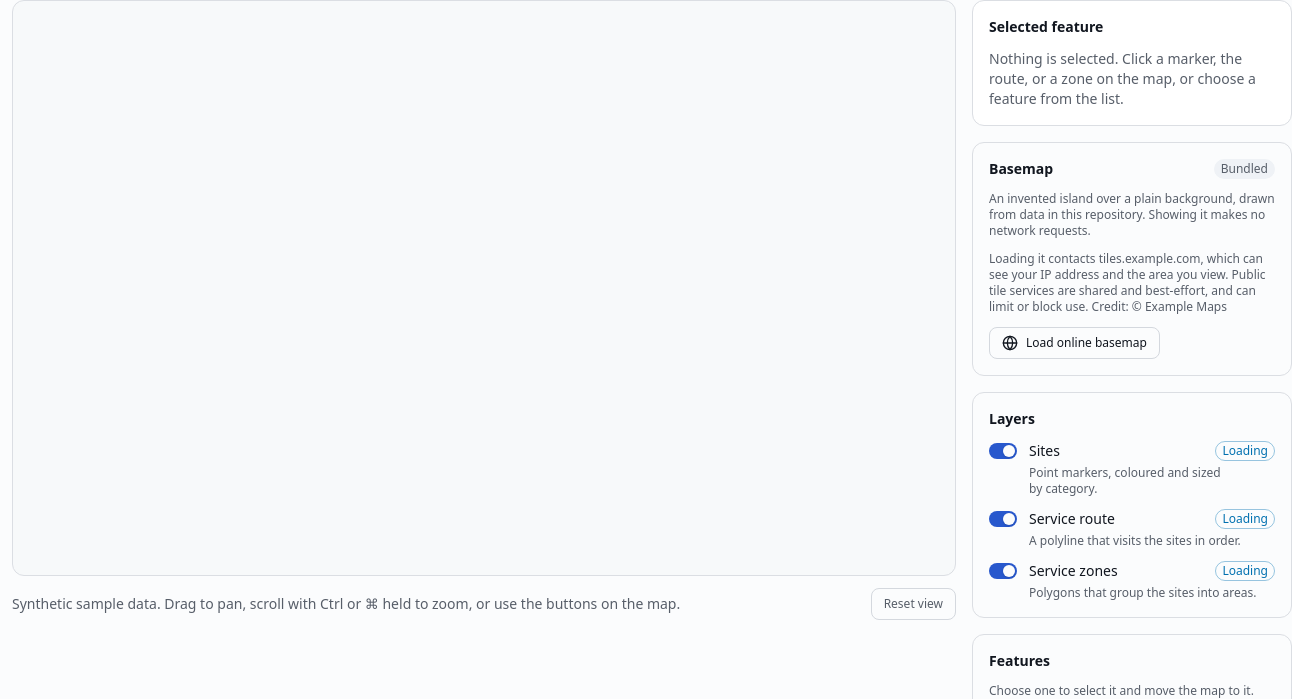
Test: the online basemap › loads the online basemap on request, then reports ready
Click the button "Load online basemap": (1074,343) [989,327,1160,359]
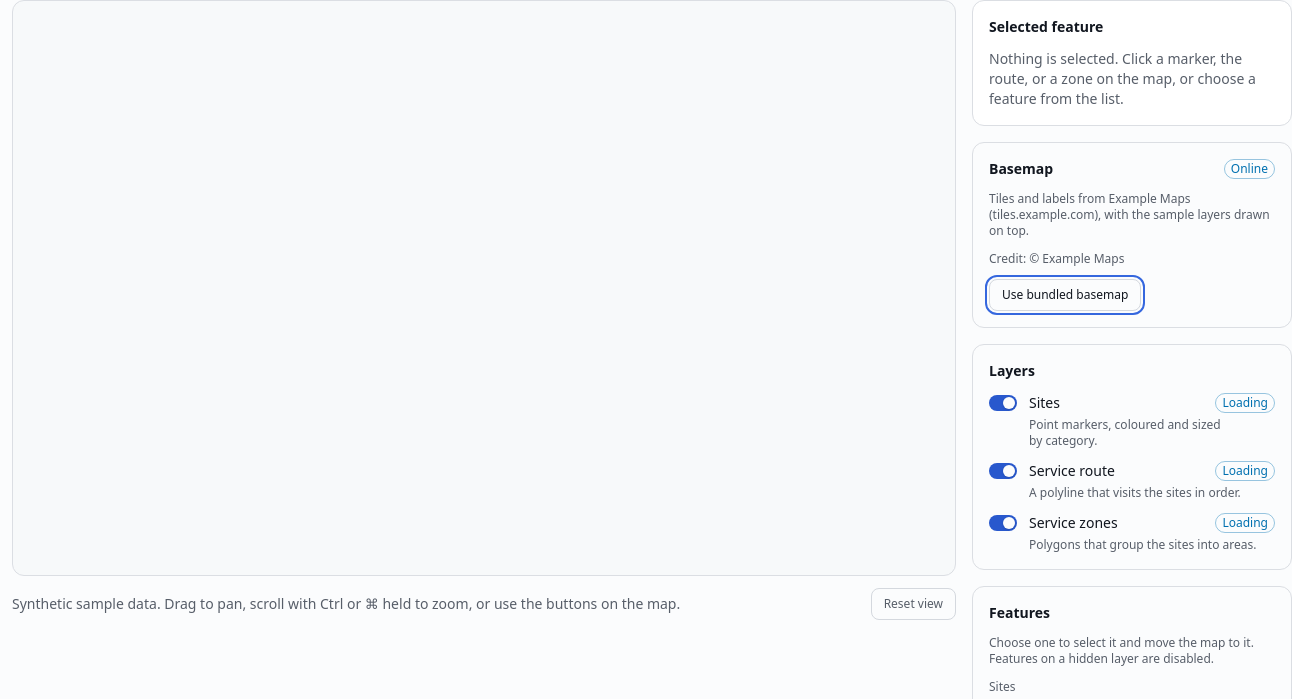
Check: the text "Online" is shown, box [1224,159,1275,179]
Check: the text "Tiles and labels from Example Maps (tiles.example.com)" is shown, box [989,190,1270,239]
